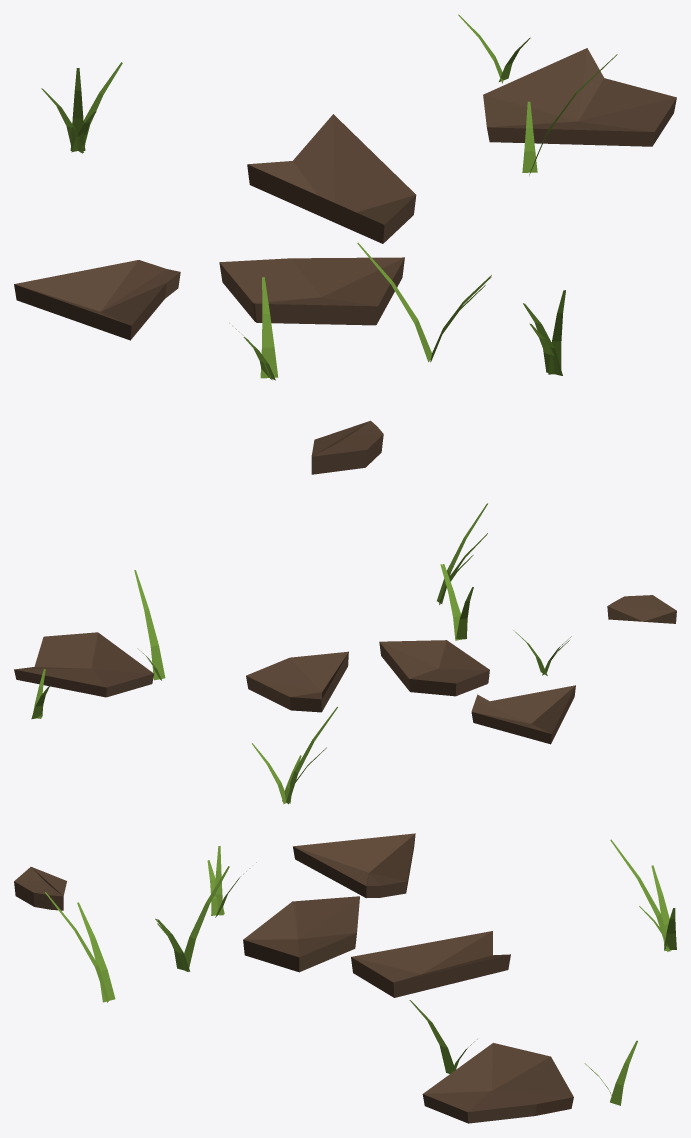
The model's file is desert_debris_1.glb.
The picture shows the model from 3 angles, top to bottom: view 1: azimuth 30°, elevation 25°; view 2: azimuth 150°, elevation 25°; view 3: azimuth 270°, elevation 25°; orthographic projection. The views are drawn at different scales.
Parts seen in each view (by area): view 1: DesertDebris_Plates, DesertDebris_Sprout_0, DesertDebris_Sprout_3, DesertDebris_Sprout_5, DesertDebris_Sprout_2, DesertDebris_Sprout_1; view 2: DesertDebris_Plates, DesertDebris_Sprout_0, DesertDebris_Sprout_2, DesertDebris_Sprout_1, DesertDebris_Sprout_3; view 3: DesertDebris_Plates, DesertDebris_Sprout_0, DesertDebris_Sprout_3, DesertDebris_Sprout_2, DesertDebris_Sprout_5, DesertDebris_Sprout_1, DesertDebris_Sprout_4.
Part boxes in pixels (box(x1,y1,x2,y2)): DesertDebris_Plates: box(14, 48, 676, 474); DesertDebris_Sprout_0: box(41, 62, 122, 153); DesertDebris_Sprout_3: box(523, 290, 565, 375); DesertDebris_Sprout_5: box(229, 277, 278, 380); DesertDebris_Sprout_2: box(357, 242, 491, 362); DesertDebris_Sprout_1: box(522, 54, 617, 175); DesertDebris_Plates: box(14, 595, 676, 744); DesertDebris_Sprout_0: box(252, 706, 337, 804); DesertDebris_Sprout_2: box(440, 564, 473, 640); DesertDebris_Sprout_1: box(134, 570, 165, 680); DesertDebris_Sprout_3: box(437, 503, 487, 604); DesertDebris_Plates: box(14, 833, 573, 1123); DesertDebris_Sprout_0: box(610, 839, 676, 951); DesertDebris_Sprout_3: box(45, 892, 115, 1002); DesertDebris_Sprout_2: box(155, 866, 229, 971); DesertDebris_Sprout_5: box(207, 846, 256, 917); DesertDebris_Sprout_1: box(409, 1000, 477, 1073); DesertDebris_Sprout_4: box(584, 1040, 637, 1105).
Size of the model in its own units: 1.18 by 0.198 by 1.2.
